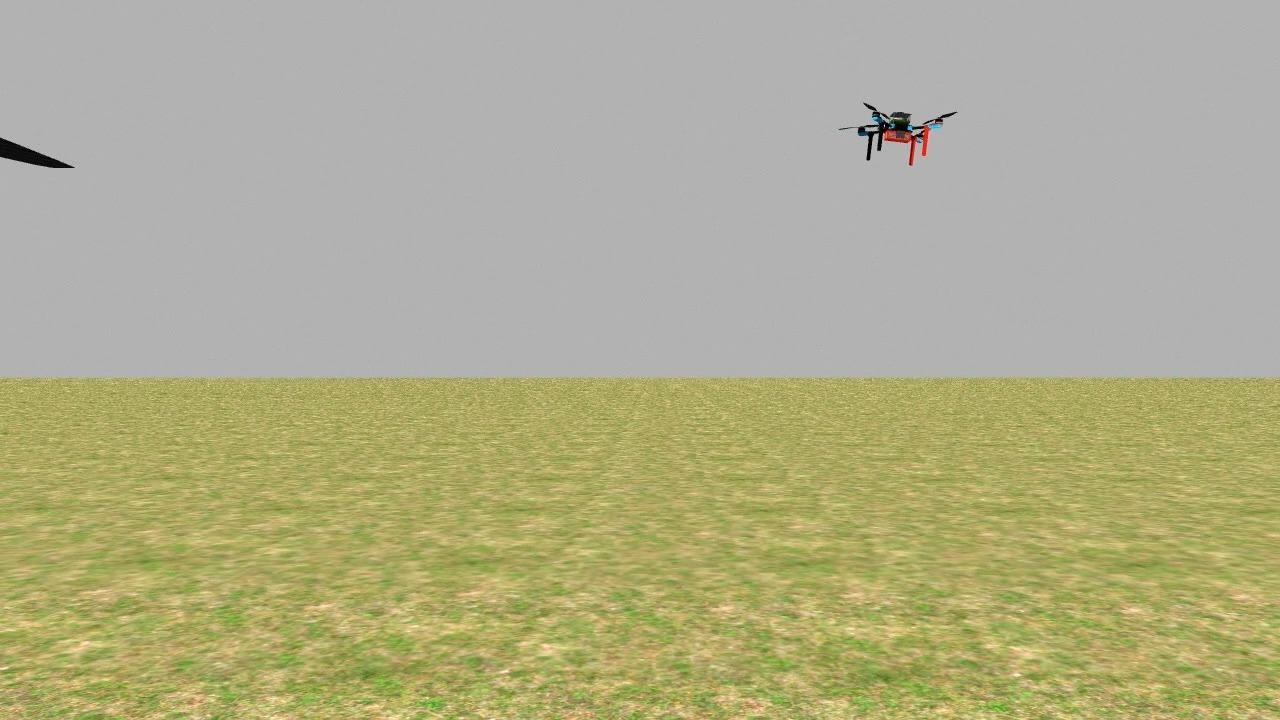UAV: (849, 104, 955, 172)
